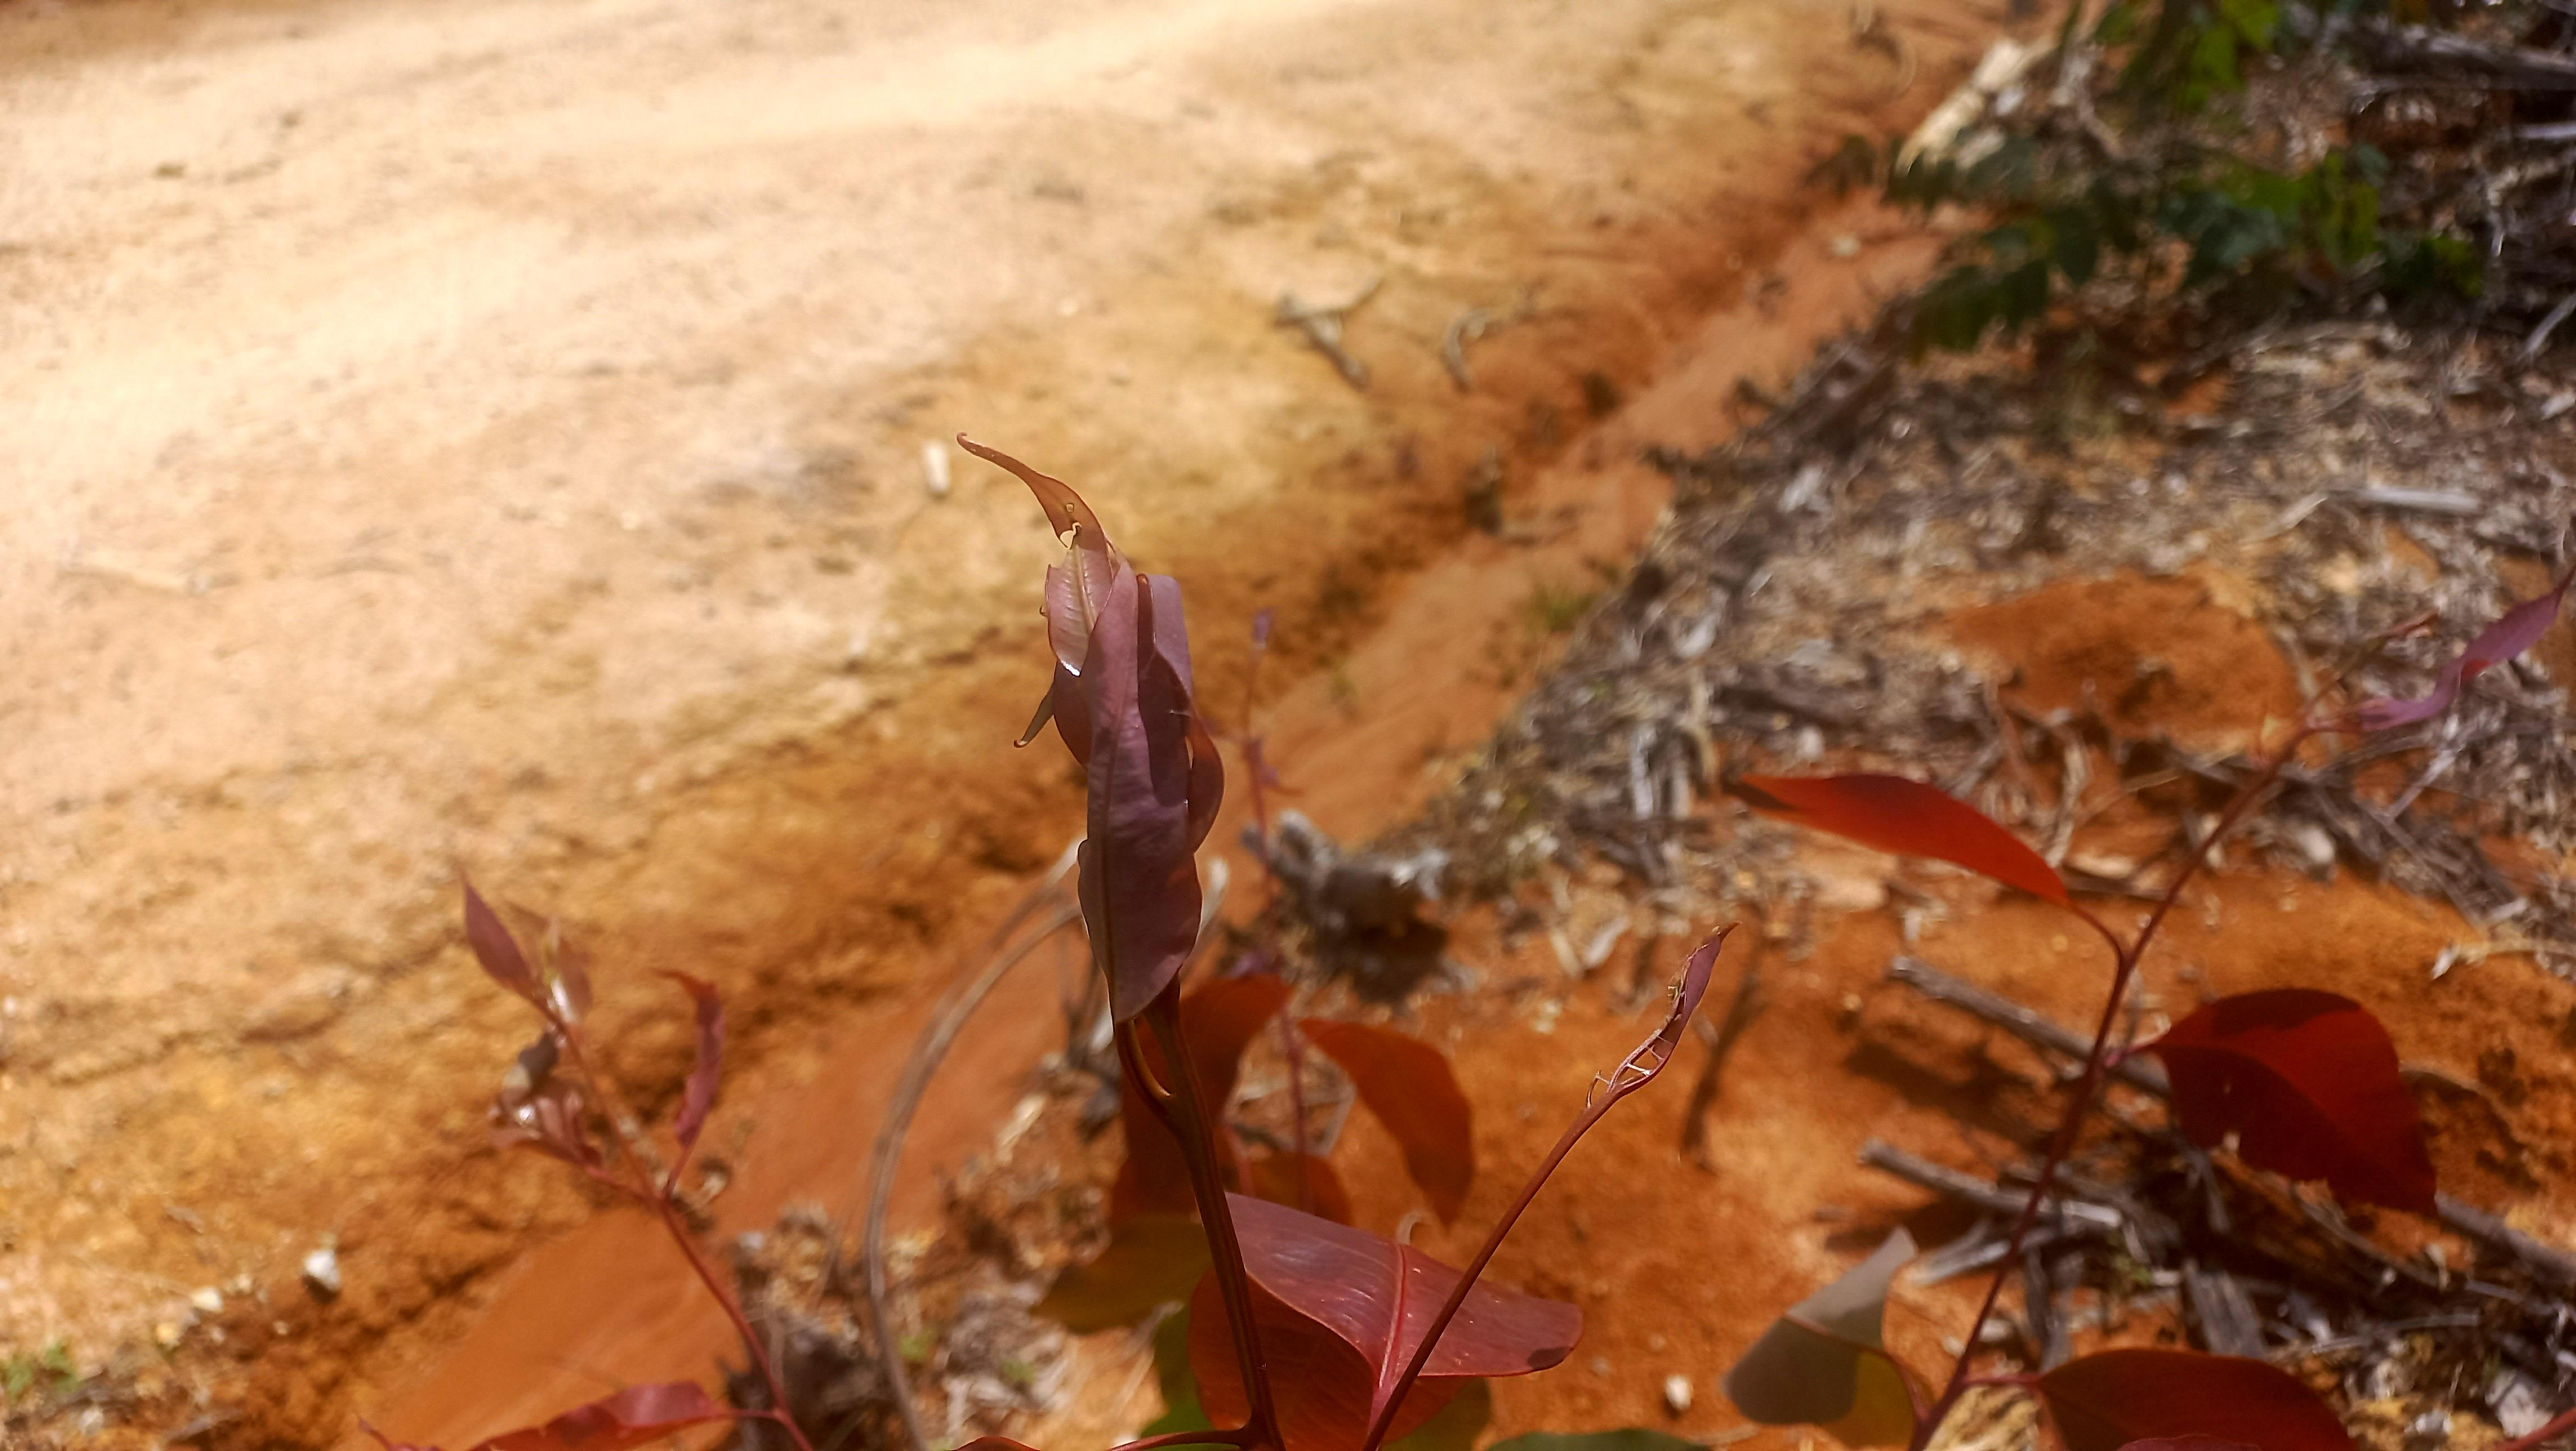Leaf Roller - Leaf: (948, 430, 1221, 1042), (1592, 925, 1750, 1113), (435, 872, 591, 1035), (478, 1090, 637, 1196), (669, 964, 729, 1196)
